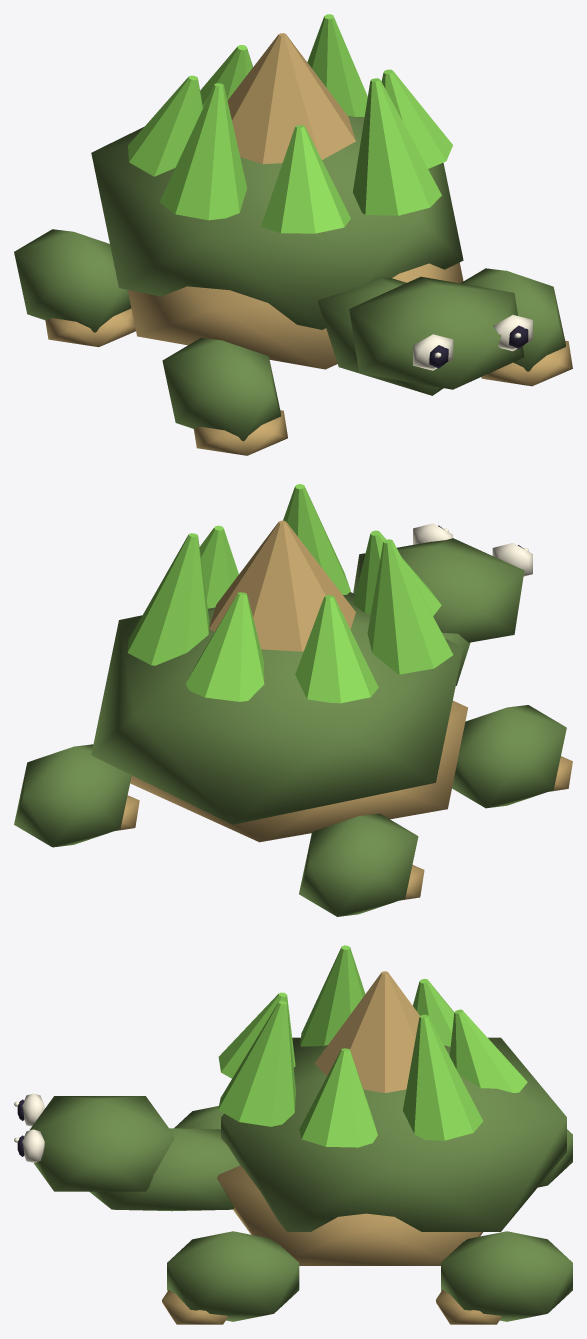
The model's file is hat-t-turtle.glb.
The picture shows the model from 3 angles, top to bottom: view 1: azimuth 30°, elevation 25°; view 2: azimuth 150°, elevation 25°; view 3: azimuth 270°, elevation 25°; orthographic projection. The views are drawn at different scales.
Parts seen in each view (by area): view 1: hat_t_turtle@head; view 2: hat_t_turtle@head; view 3: hat_t_turtle@head.
Boxes of the visible parts, x1=… form: hat_t_turtle@head: x1=14, y1=14, x2=572, y2=455; hat_t_turtle@head: x1=14, y1=484, x2=572, y2=916; hat_t_turtle@head: x1=14, y1=945, x2=572, y2=1324.
Size of the model in its own units: 0.5762 by 0.45 by 0.8.
